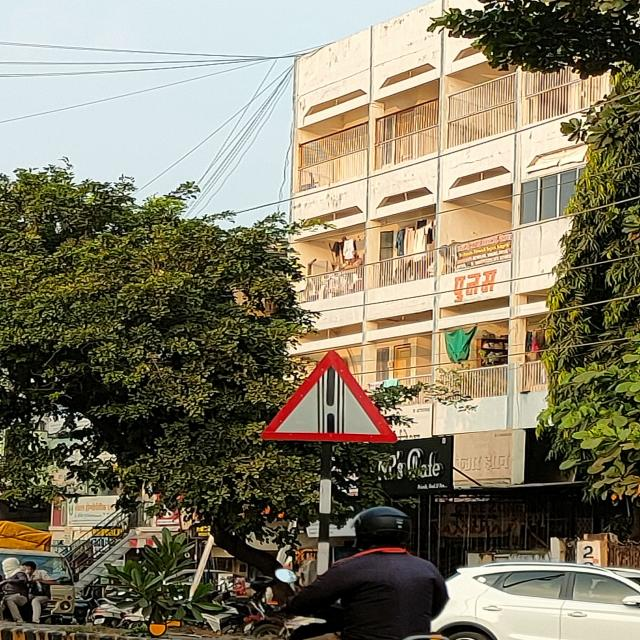ferry: (245, 348, 400, 444)
